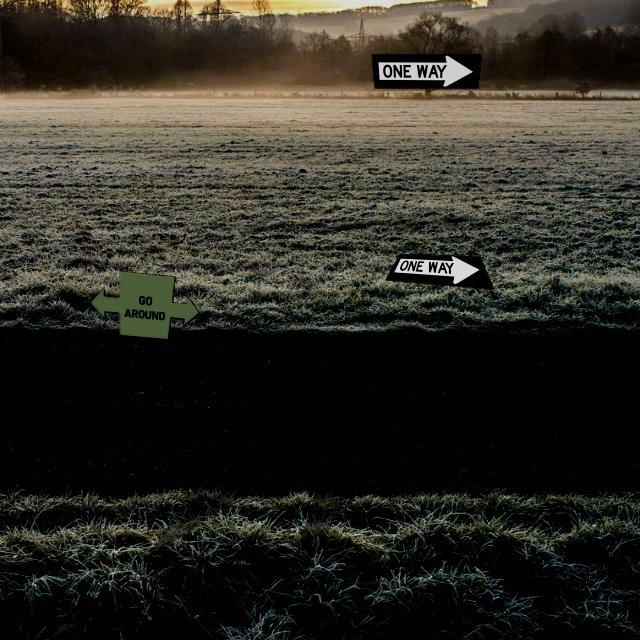GO_AROUND: (89, 270, 200, 340)
ONE_WAY_ right: (384, 253, 495, 290), (371, 53, 482, 89)
